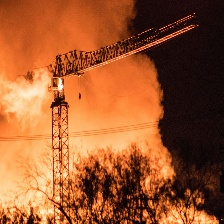fire: (52, 76, 71, 95)
smoke: (10, 1, 173, 148)
